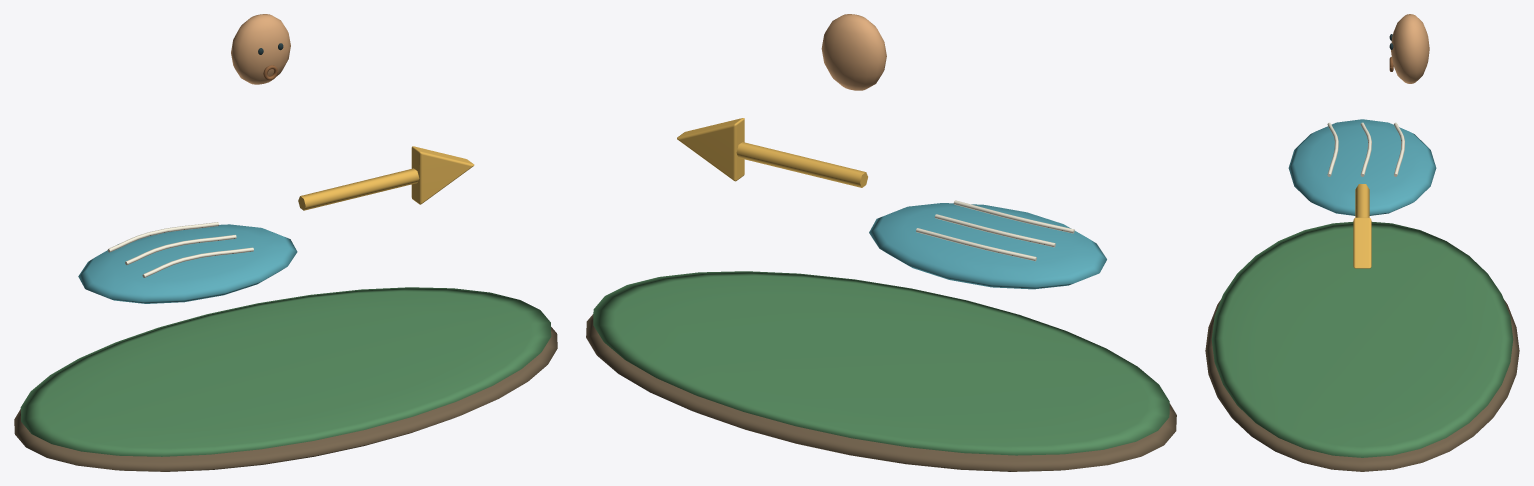
The model's file is complete-third-stirred-motion.glb.
3 views of the same model, side by side, from view 1: azimuth 30°, elevation 25°; view 2: azimuth 150°, elevation 25°; view 3: azimuth 270°, elevation 25° (orthographic). The views are drawn at different scales.
Visible parts, largest first — view 1: complete-third-stirred-motion_surface_01, complete-third-stirred-motion_surface_02, complete-third-stirred-motion_surface_00, complete-third-stirred-motion_surface_04, complete-third-stirred-motion_surface_05, complete-third-stirred-motion_surface_03; view 2: complete-third-stirred-motion_surface_01, complete-third-stirred-motion_surface_02, complete-third-stirred-motion_surface_00, complete-third-stirred-motion_surface_04, complete-third-stirred-motion_surface_05, complete-third-stirred-motion_surface_03; view 3: complete-third-stirred-motion_surface_01, complete-third-stirred-motion_surface_02, complete-third-stirred-motion_surface_00, complete-third-stirred-motion_surface_05, complete-third-stirred-motion_surface_04, complete-third-stirred-motion_surface_03.
Part boxes in pixels (x1,y1,x2,y2): complete-third-stirred-motion_surface_01: (20,287,551,456); complete-third-stirred-motion_surface_02: (78,224,297,303); complete-third-stirred-motion_surface_00: (14,327,557,471); complete-third-stirred-motion_surface_04: (298,146,474,210); complete-third-stirred-motion_surface_05: (231,14,290,84); complete-third-stirred-motion_surface_03: (107,222,253,277); complete-third-stirred-motion_surface_01: (593,271,1169,455); complete-third-stirred-motion_surface_02: (869,203,1106,289); complete-third-stirred-motion_surface_00: (586,314,1176,471); complete-third-stirred-motion_surface_04: (677,118,867,187); complete-third-stirred-motion_surface_05: (821,14,886,90); complete-third-stirred-motion_surface_03: (916,200,1074,261); complete-third-stirred-motion_surface_01: (1211,222,1513,457); complete-third-stirred-motion_surface_02: (1288,119,1436,215); complete-third-stirred-motion_surface_00: (1205,300,1519,471); complete-third-stirred-motion_surface_05: (1391,14,1429,83); complete-third-stirred-motion_surface_04: (1353,184,1371,268); complete-third-stirred-motion_surface_03: (1327,122,1404,176).
Size of the model in its own units: 4.56 by 3.07 by 2.5.
